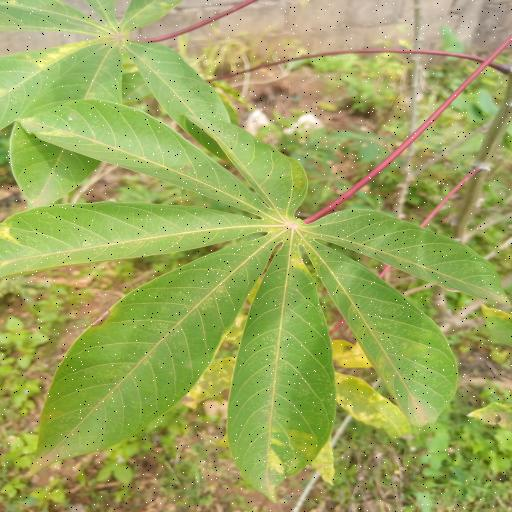Cassava_Mosaic: (0, 101, 512, 497), (2, 0, 263, 208)
